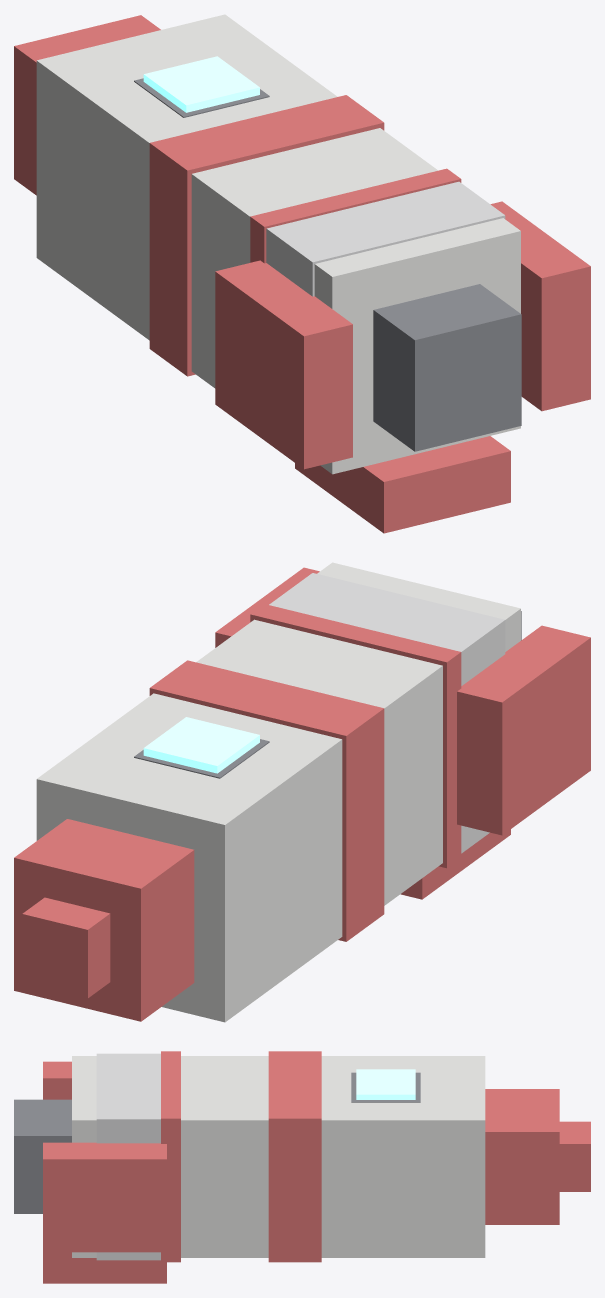
The model's file is assembled_rocket.glb.
3 renders of one model, top to bottom at view 1: azimuth 30°, elevation 25°; view 2: azimuth 150°, elevation 25°; view 3: azimuth 270°, elevation 25°, orthographic. The views are drawn at different scales.
Visible parts, largest first — view 1: Body, FinL, Engine, Stripe, FinB, FinR, Belly, Nose, WinF, Stripe2, WinFr; view 2: Body, Nose, FinL, Stripe, Belly, Tip, Stripe2, WinF, FinB, FinR, WinFr; view 3: Body, FinR, Stripe, Nose, Belly, Engine, Stripe2, FinB, Tip, WinF, FinL, WinFr.
Part boxes in pixels (x1,y1,x2,y2): Body: (36, 14, 520, 474); FinL: (215, 260, 352, 469); Engine: (373, 284, 521, 451); Stripe: (149, 95, 384, 376); FinB: (295, 436, 510, 533); FinR: (490, 201, 590, 411); Belly: (266, 181, 505, 296); Nose: (14, 15, 160, 195); WinF: (143, 56, 259, 112); Stripe2: (250, 168, 461, 263); WinFr: (134, 78, 269, 117); Body: (36, 562, 520, 1022); Nose: (14, 819, 194, 1021); FinL: (457, 625, 590, 835); Stripe: (149, 660, 384, 941); Belly: (269, 573, 505, 853); Tip: (22, 897, 110, 998); Stripe2: (250, 604, 461, 868); WinF: (143, 717, 259, 773); FinB: (400, 829, 510, 899); FinR: (215, 567, 319, 647); WinFr: (134, 739, 269, 778); Body: (72, 1056, 485, 1257); FinR: (43, 1142, 166, 1252); Stripe: (268, 1051, 321, 1262); Nose: (485, 1089, 559, 1224); Belly: (96, 1053, 160, 1260); Engine: (14, 1099, 71, 1213); Stripe2: (161, 1051, 180, 1262); FinB: (43, 1252, 166, 1283); Tip: (559, 1121, 590, 1191); WinF: (356, 1069, 415, 1099); FinL: (43, 1061, 71, 1099); WinFr: (351, 1072, 420, 1102).
Bounding box in the file's own units: 1.4 × 1.2 × 3.49.
